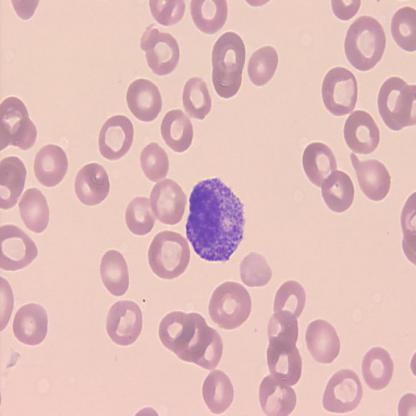Metamyelocyte: (183, 174, 247, 266)
